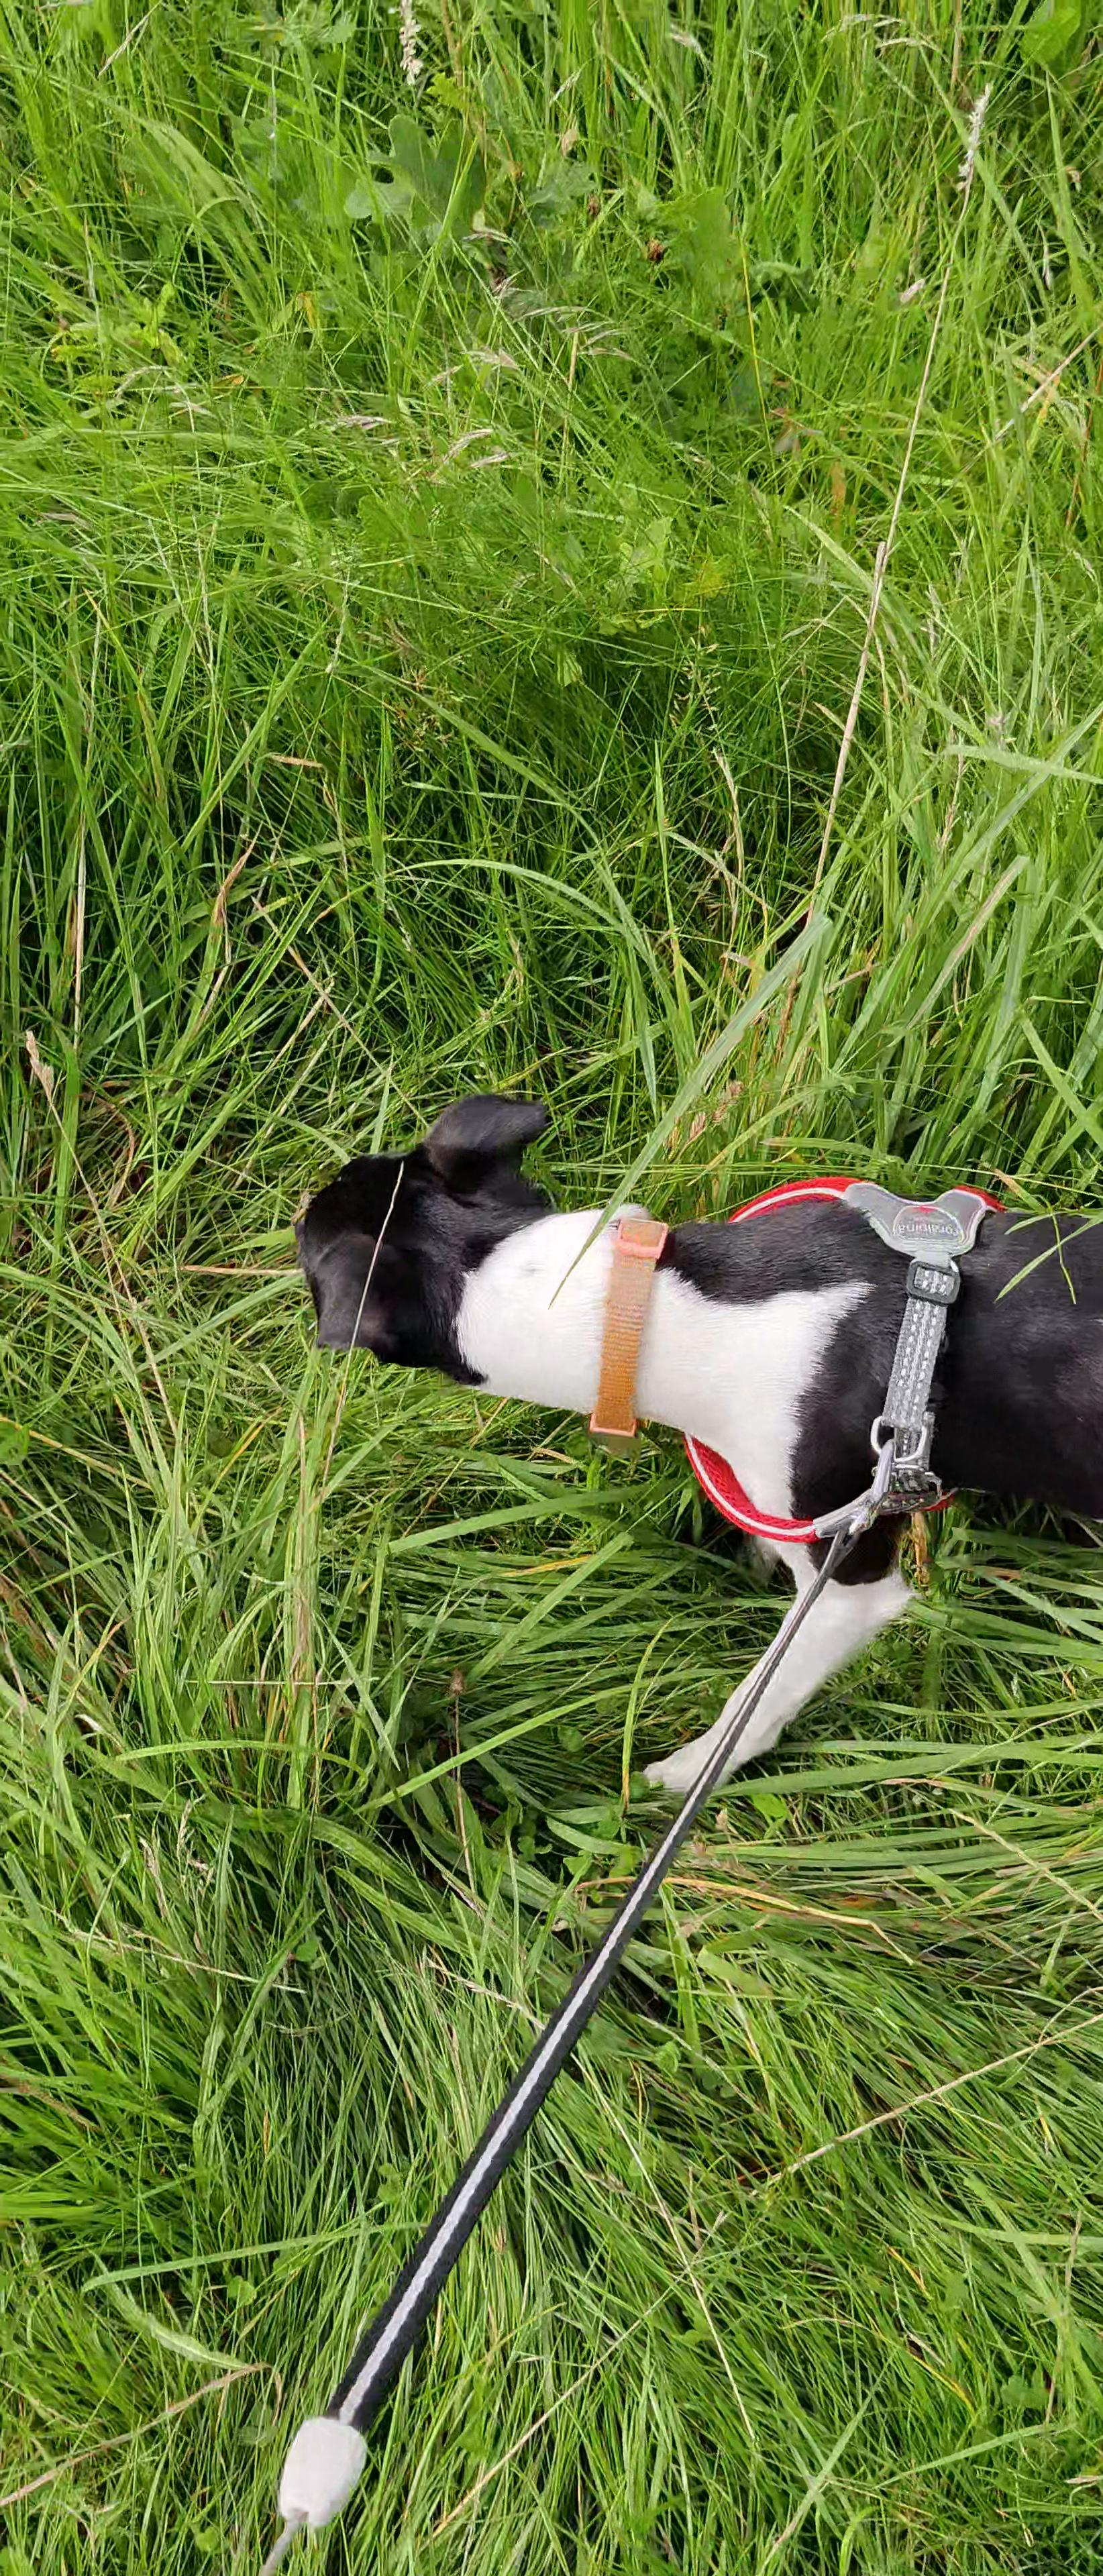Dog: (253, 1083, 1103, 1822)
